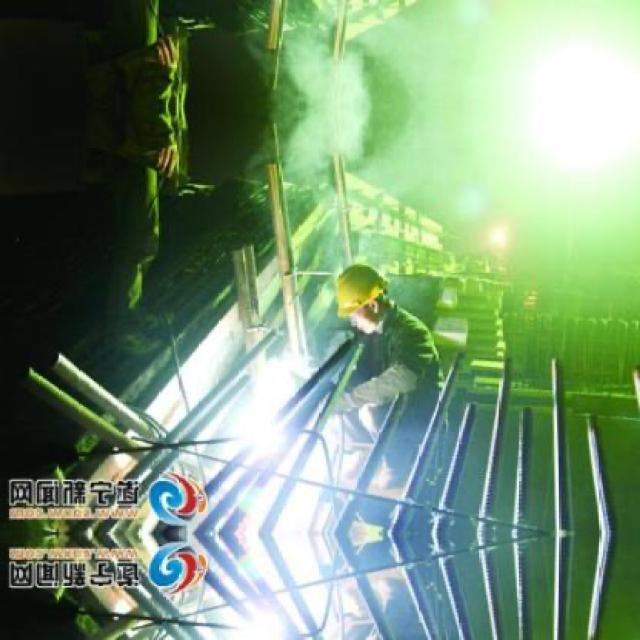con casco: (311, 232, 441, 351)
